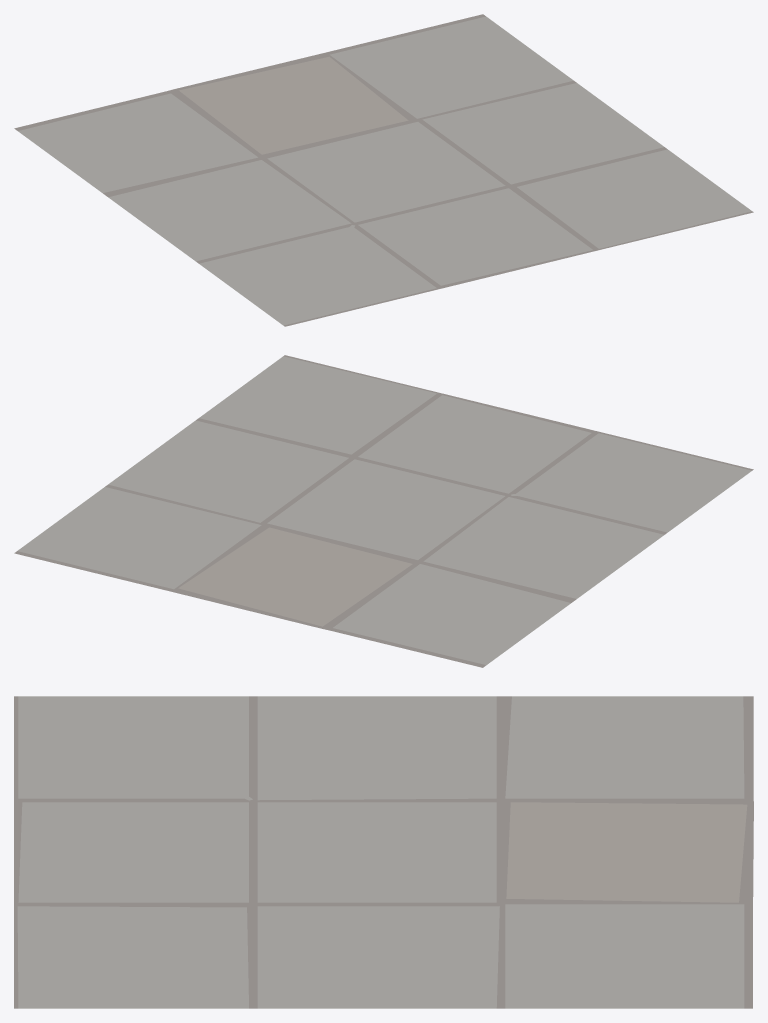
File: Tile_01.fbx
3 views of the same model, one above another, from view 1: azimuth 30°, elevation 25°; view 2: azimuth 150°, elevation 25°; view 3: azimuth 270°, elevation 25° (orthographic). The views are drawn at different scales.
Parts seen in each view (by area): view 1: Tile_01; view 2: Tile_01; view 3: Tile_01.
Boxes of the visible parts, x1=… form: Tile_01: x1=14, y1=14, x2=753, y2=326; Tile_01: x1=14, y1=355, x2=753, y2=667; Tile_01: x1=14, y1=696, x2=753, y2=1008.
Bounding box in the file's own units: 6 × 0 × 6.01.
